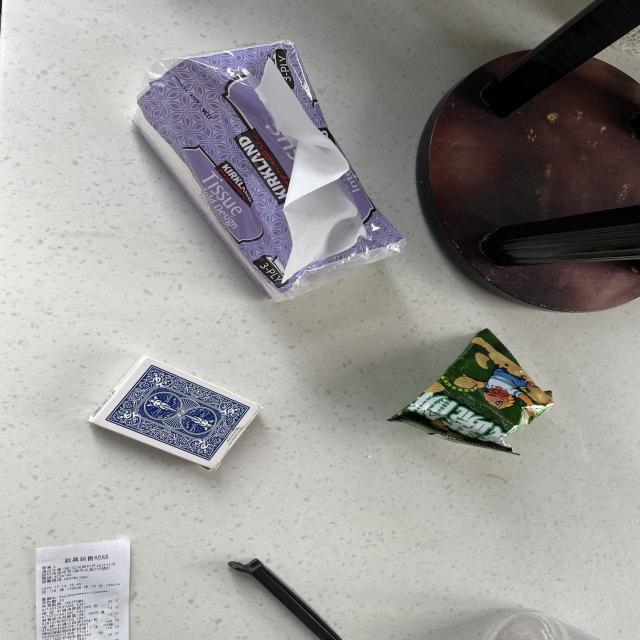tissue: (126, 37, 412, 306)
